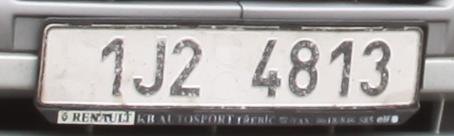1: (98, 37, 127, 100), (328, 38, 355, 100)
2: (169, 38, 203, 100)
3: (359, 41, 392, 98)
4: (249, 39, 282, 99)
8: (288, 38, 318, 99)
J: (131, 37, 167, 97)
